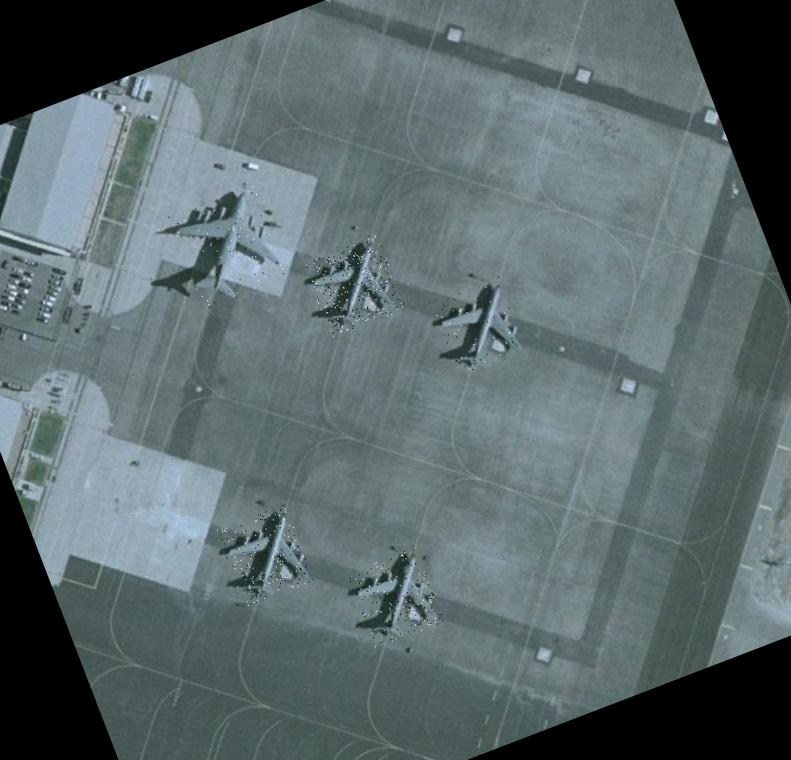A14: (301, 235, 405, 338), (346, 545, 444, 648), (215, 504, 313, 607), (430, 278, 525, 376)
A3: (166, 184, 288, 310)
